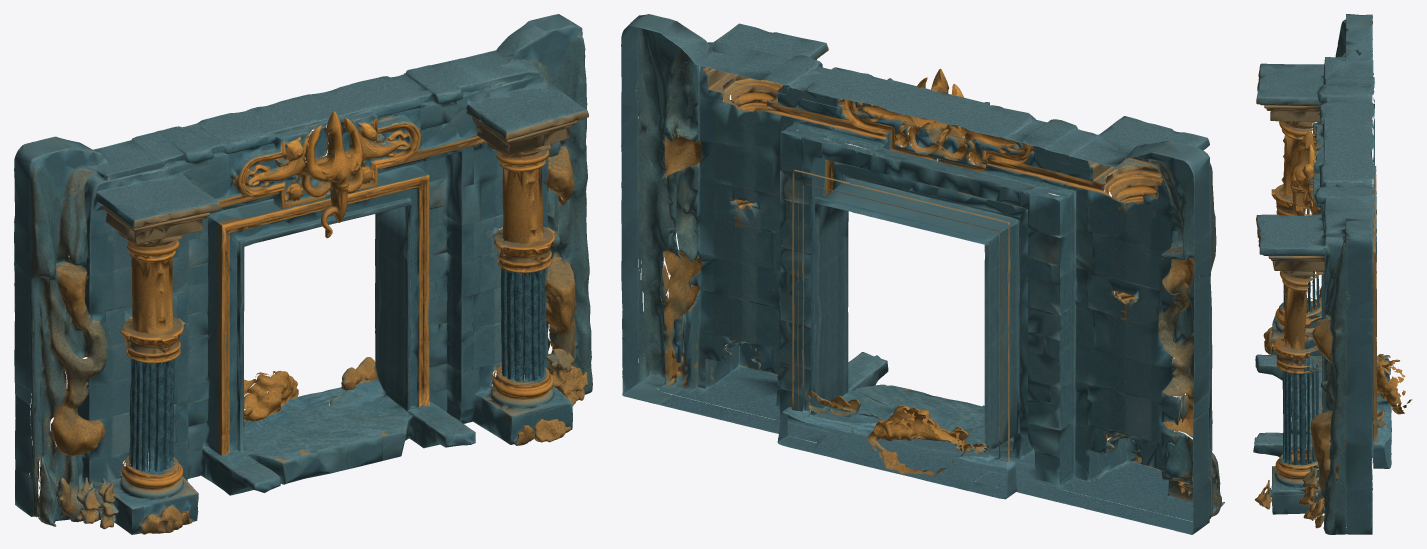
File: atlantis_gate.glb
3 renders of one model, left to right at view 1: azimuth 30°, elevation 25°; view 2: azimuth 150°, elevation 25°; view 3: azimuth 270°, elevation 25°, orthographic. The views are drawn at different scales.
Bounding box in the file's own units: 1.9 × 1.19 × 0.5688.
Materials: 1 (1 with a texture image).
